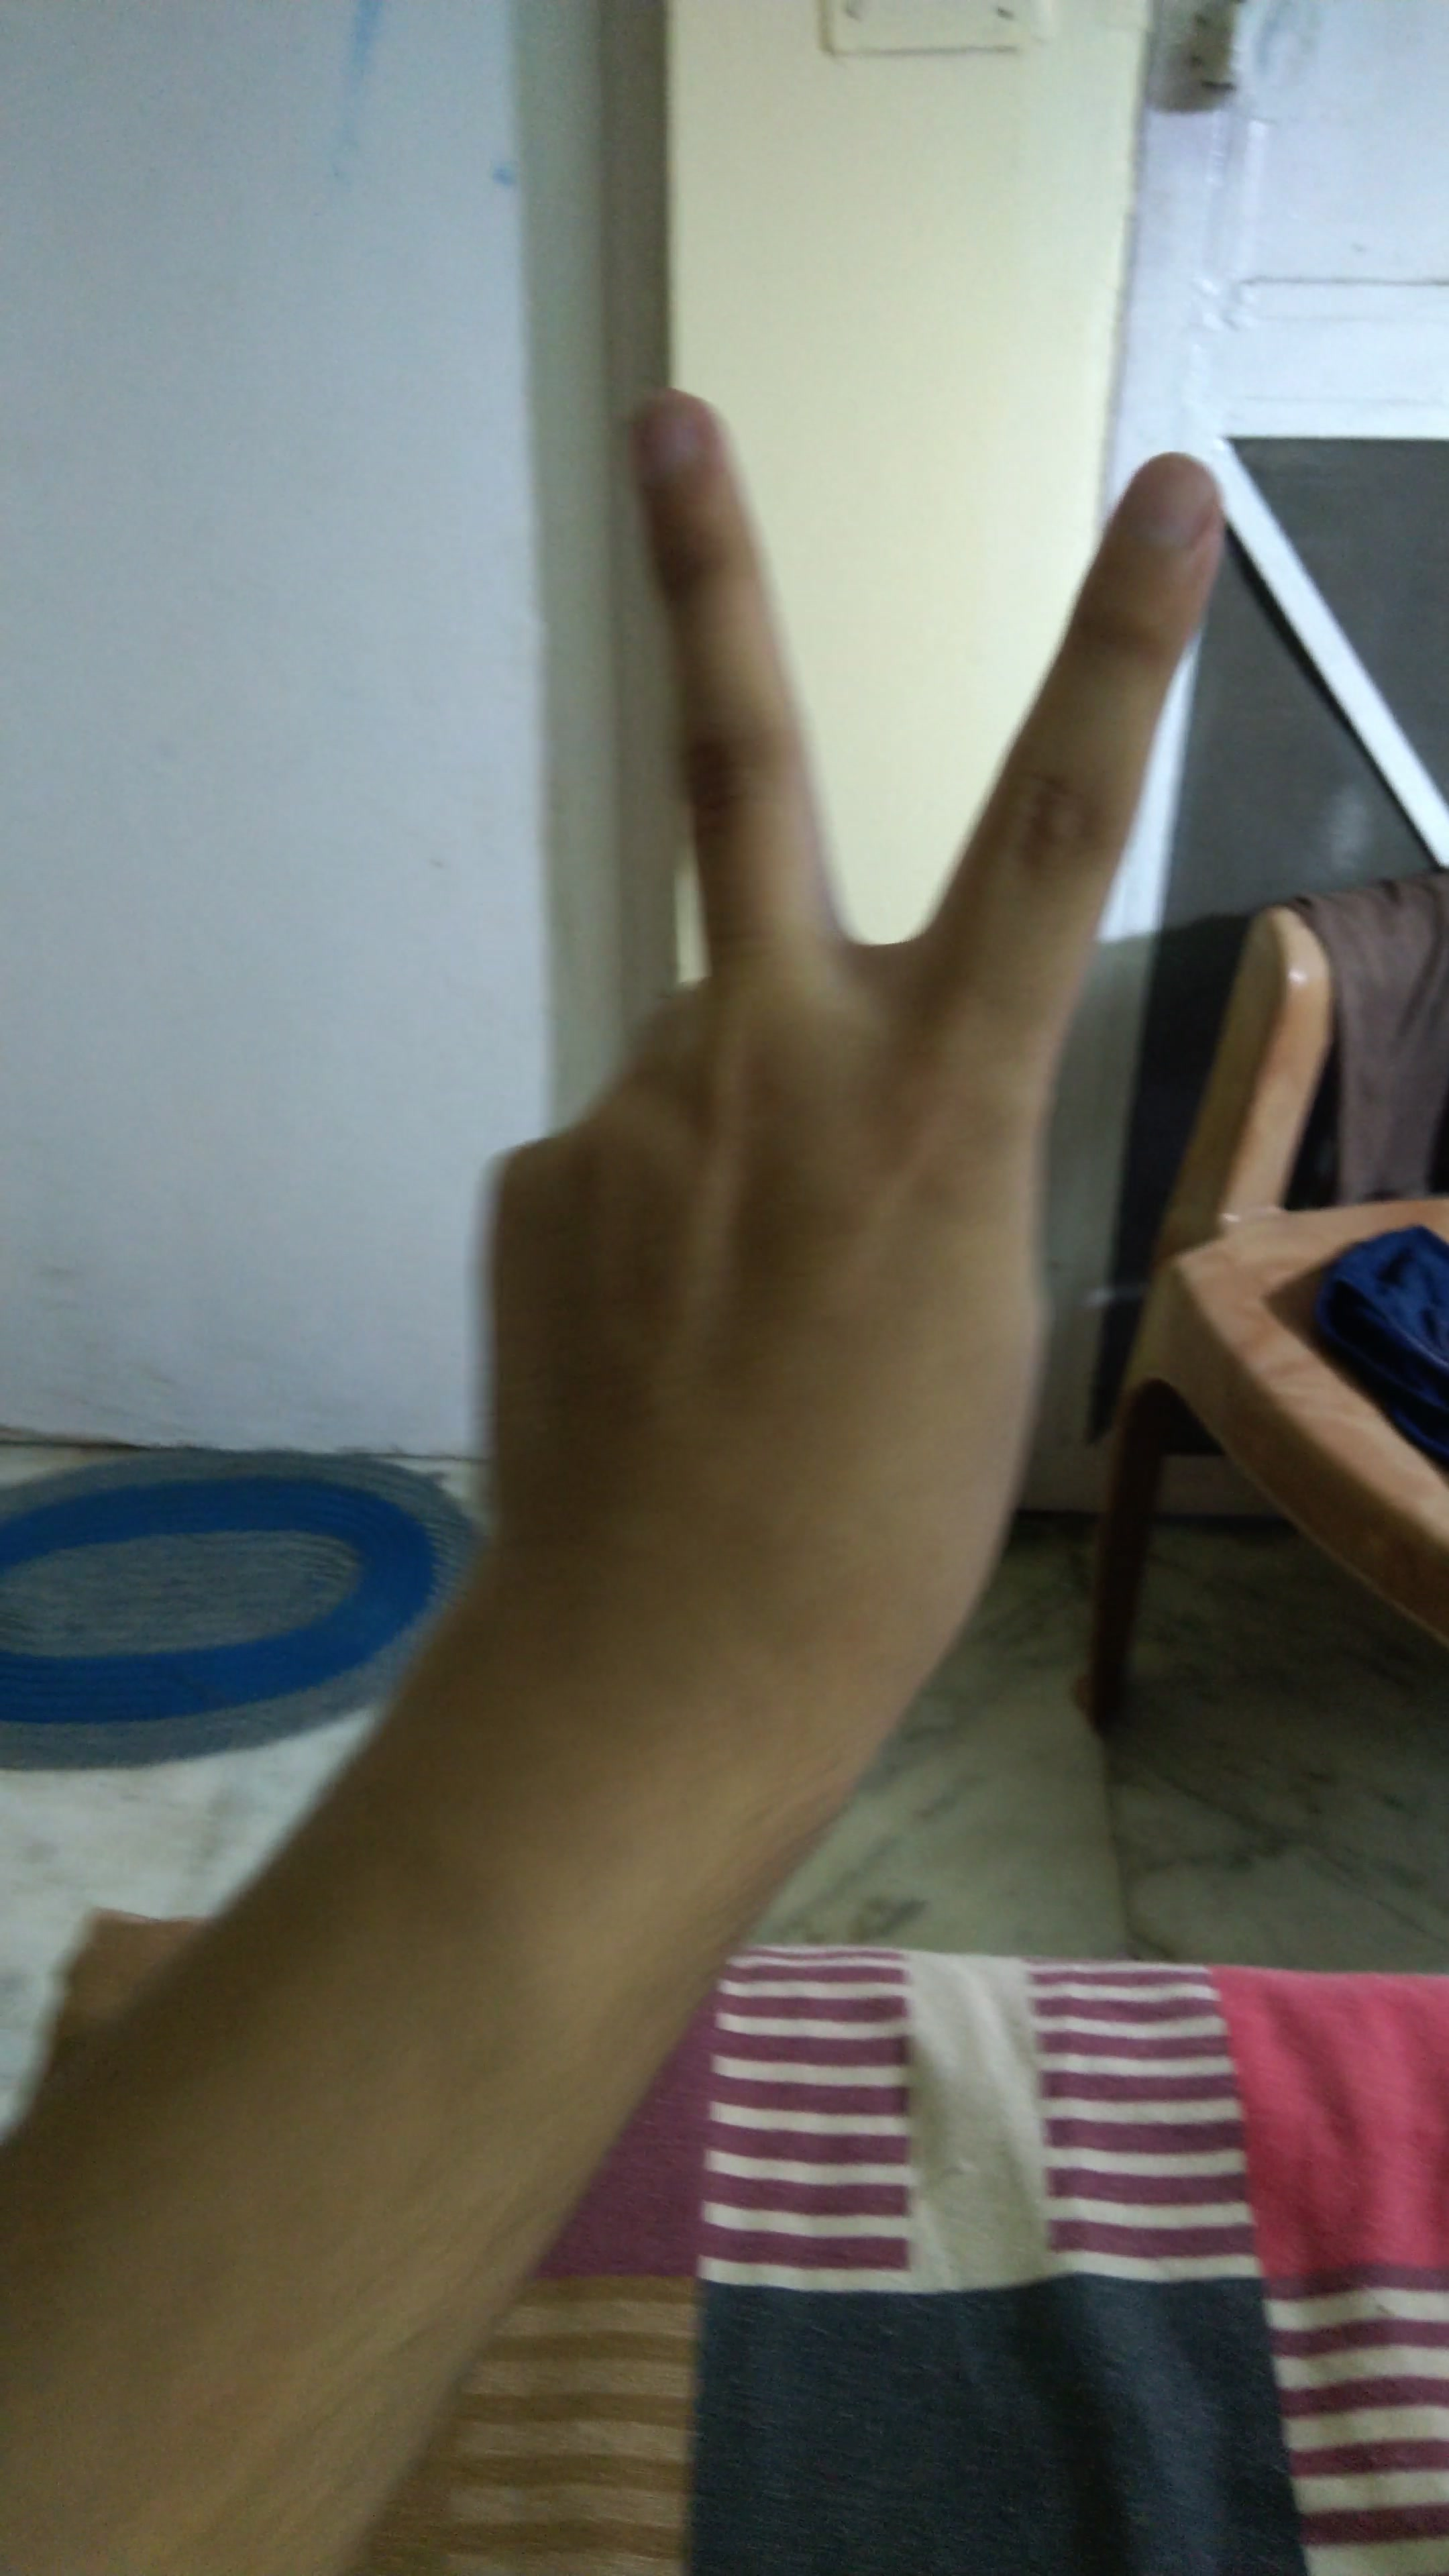hand: (329, 359, 1207, 1755)
